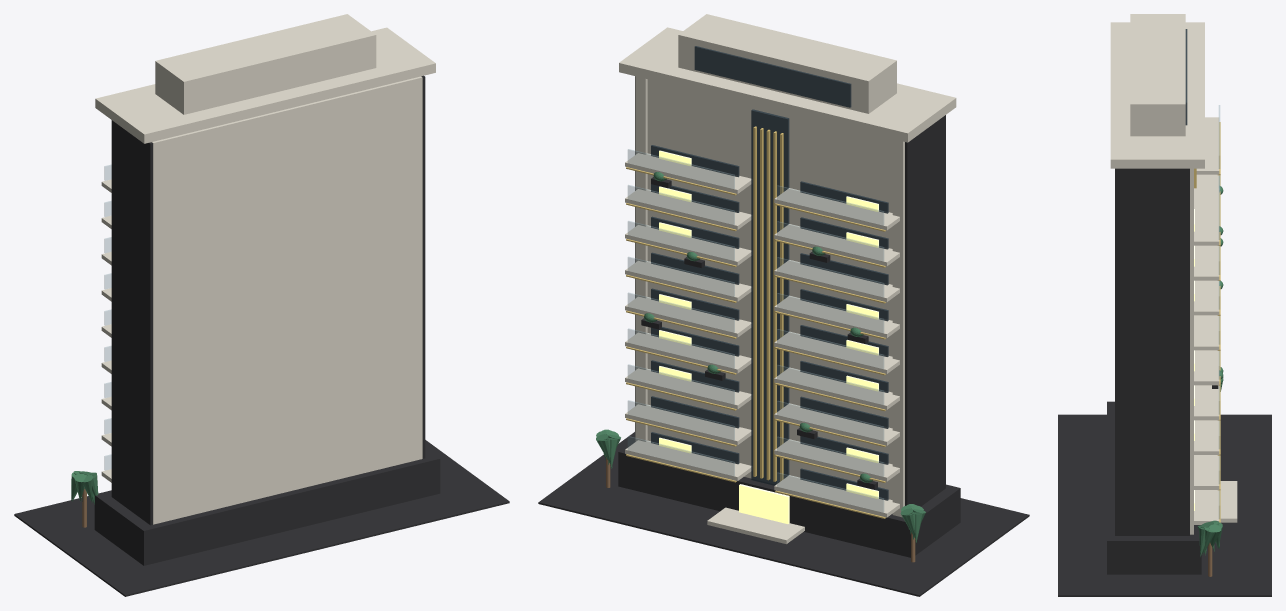
File: neurora_tower_v1.glb
3 views of the same model, side by side, from view 1: azimuth 30°, elevation 25°; view 2: azimuth 150°, elevation 25°; view 3: azimuth 270°, elevation 25° (orthographic). The views are drawn at different scales.
Parts seen in each view (by area): view 1: main_warm_stone_body, dark_reflective_ground, left_side_shadow, luxury_lobby_base, setback_penthouse, roof_slab, right_side_shadow; view 2: main_warm_stone_body, dark_reflective_ground, left_side_shadow, luxury_lobby_base, roof_slab, setback_penthouse, central_dark_glass_spine, left_stone_pier, penthouse_glass_front, right_stone_pier, right_balcony_slab_1, right_balcony_slab_5 (+59 smaller); view 3: right_side_shadow, dark_reflective_ground, roof_slab, setback_penthouse, luxury_lobby_base, right_balcony_slab_8, right_stone_pier, right_balcony_slab_5, left_balcony_slab_8, right_balcony_slab_7, right_balcony_slab_4, right_balcony_slab_6 (+6 smaller).
Boxes of the visible parts, x1=… form: main_warm_stone_body: x1=152, y1=76, x2=422, y2=524; dark_reflective_ground: x1=14, y1=440, x2=509, y2=596; left_side_shadow: x1=111, y1=120, x2=152, y2=525; luxury_lobby_base: x1=94, y1=448, x2=440, y2=565; setback_penthouse: x1=155, y1=14, x2=376, y2=114; roof_slab: x1=95, y1=27, x2=435, y2=143; right_side_shadow: x1=421, y1=75, x2=425, y2=458; main_warm_stone_body: x1=647, y1=79, x2=892, y2=499; dark_reflective_ground: x1=538, y1=432, x2=1029, y2=596; left_side_shadow: x1=905, y1=115, x2=945, y2=506; luxury_lobby_base: x1=618, y1=440, x2=960, y2=557; roof_slab: x1=619, y1=27, x2=956, y2=142; setback_penthouse: x1=678, y1=14, x2=896, y2=113; central_dark_glass_spine: x1=751, y1=109, x2=789, y2=485; left_stone_pier: x1=892, y1=139, x2=904, y2=517; penthouse_glass_front: x1=694, y1=46, x2=851, y2=107; right_stone_pier: x1=635, y1=76, x2=647, y2=441; right_balcony_slab_1: x1=625, y1=404, x2=751, y2=445; right_balcony_slab_5: x1=625, y1=261, x2=751, y2=301; right_side_shadow: x1=1115, y1=168, x2=1189, y2=535; dark_reflective_ground: x1=1058, y1=414, x2=1271, y2=596; roof_slab: x1=1110, y1=22, x2=1204, y2=168; setback_penthouse: x1=1130, y1=14, x2=1185, y2=136; luxury_lobby_base: x1=1107, y1=401, x2=1201, y2=574; right_balcony_slab_8: x1=1194, y1=188, x2=1219, y2=245; right_stone_pier: x1=1190, y1=168, x2=1193, y2=534; right_balcony_slab_5: x1=1194, y1=315, x2=1219, y2=350; left_balcony_slab_8: x1=1196, y1=117, x2=1219, y2=174; right_balcony_slab_7: x1=1194, y1=245, x2=1219, y2=280; right_balcony_slab_4: x1=1194, y1=350, x2=1219, y2=385; right_balcony_slab_6: x1=1194, y1=280, x2=1219, y2=315.
Size of the model in its own units: 12 by 13.84 by 6.
